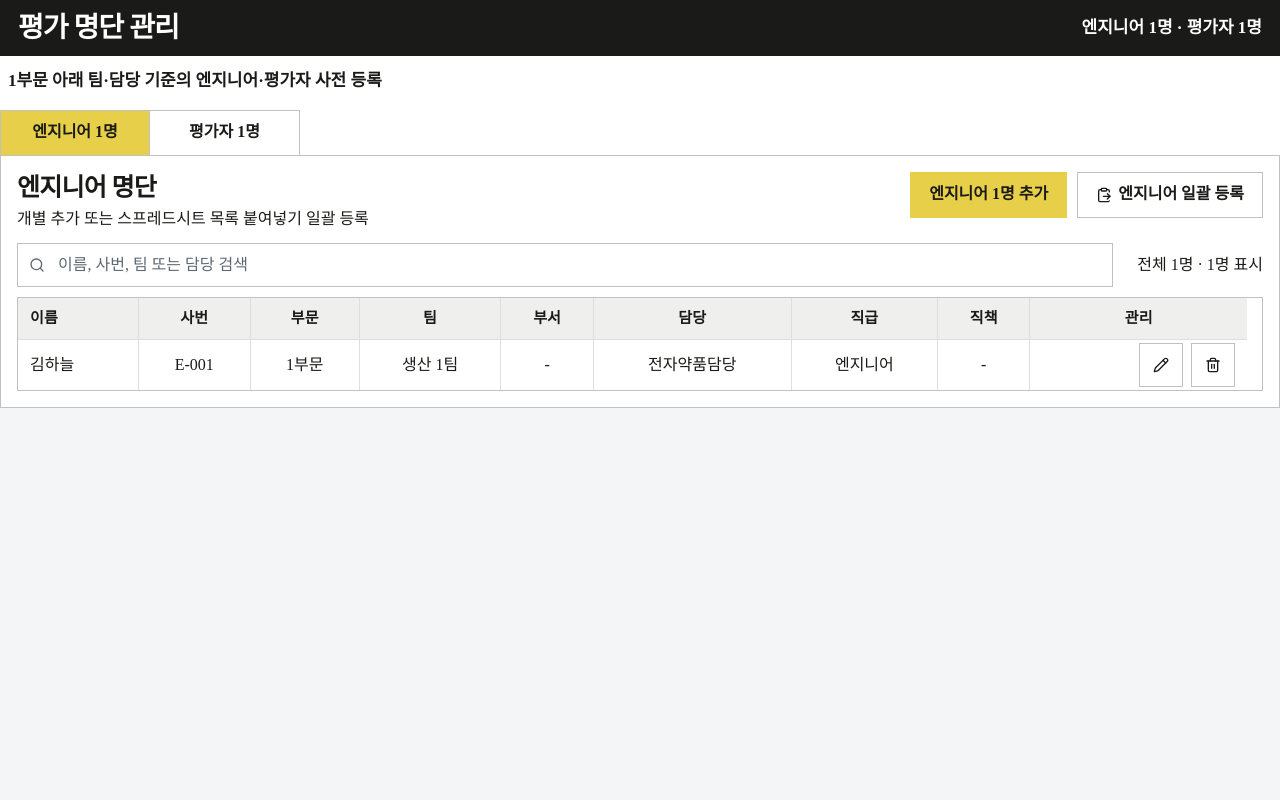
Scenario: RosterManagementPanel › blocks an invalid batch and reports line errors
Click the button "엔지니어 일괄 등록". click: click(1170, 195)
box: [1077,172,1263,218]
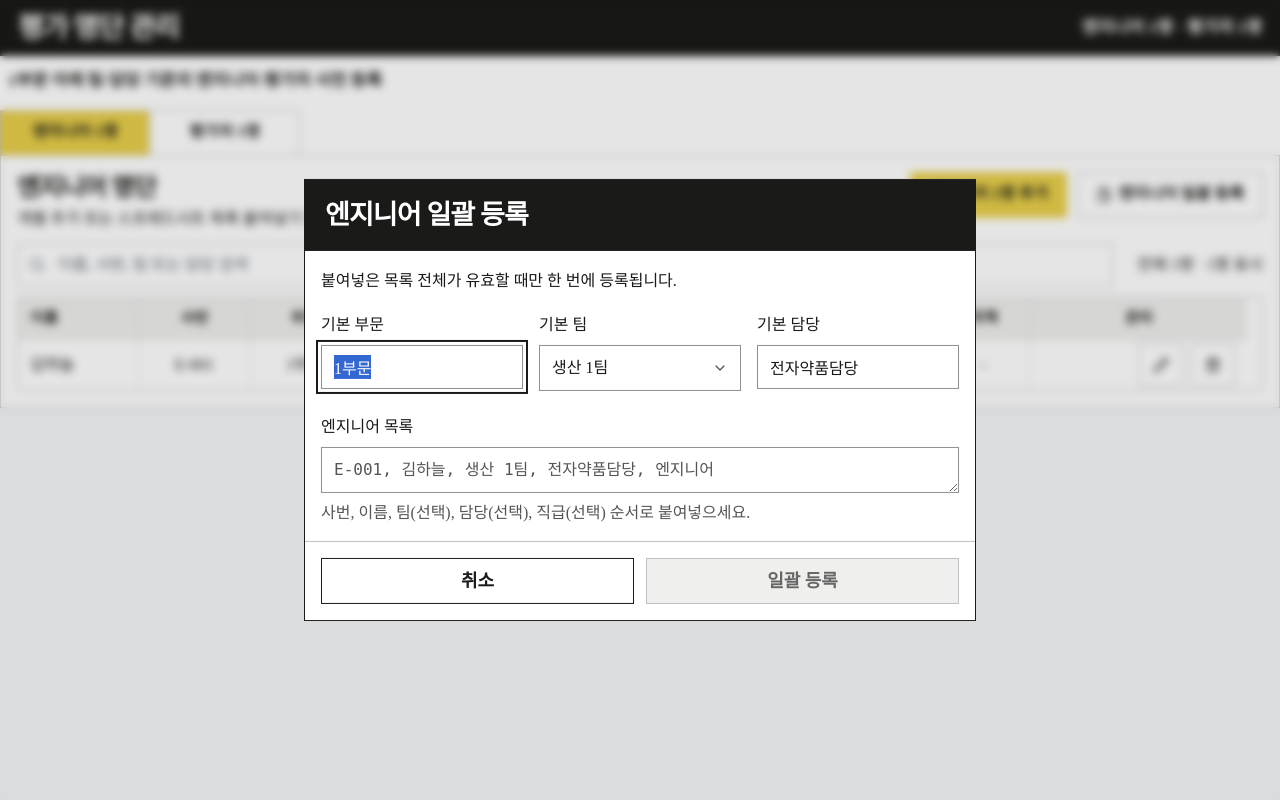
Type "E-002,,생산 3팀" into the text box labelled "엔지니어 목록". click: (640, 470)
box: [321,447,959,493]
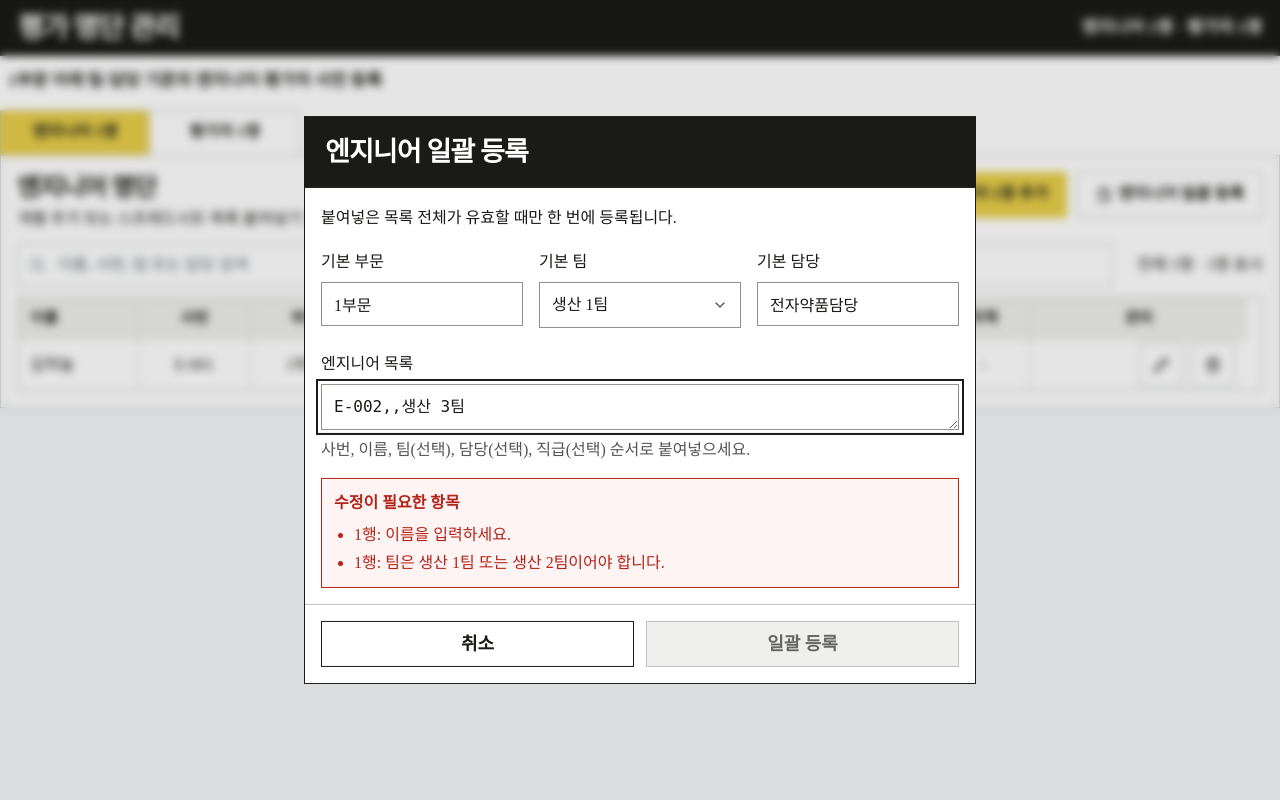
Check: the button "일괄 등록" is disabled, box [646,621,959,667]
Check: the list item "1행: 이름을 입력하세요." is shown, box [354,526,511,543]
